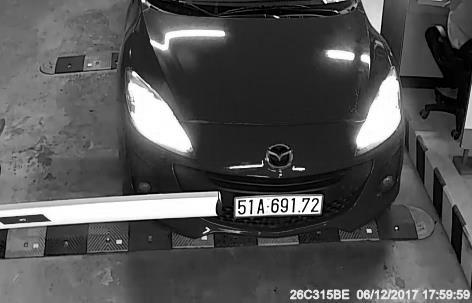License-plate: (231, 188, 329, 226)
